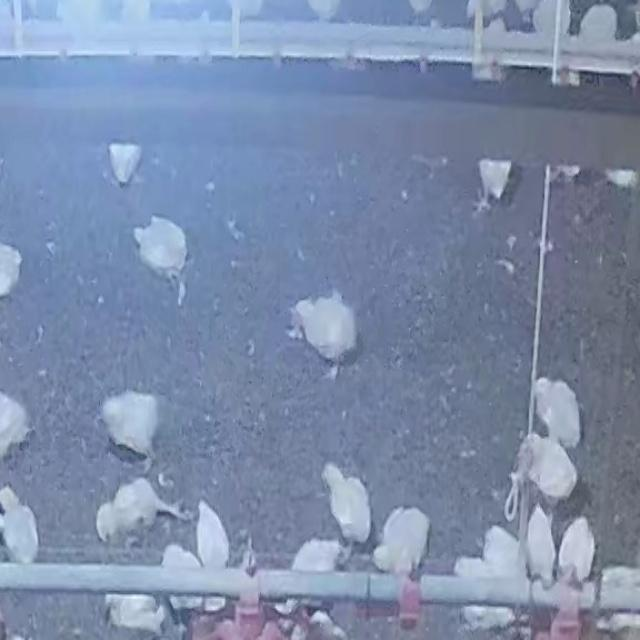chicken: (292, 294, 361, 384), (131, 208, 192, 308), (95, 478, 189, 542), (101, 387, 167, 478), (514, 432, 584, 516), (320, 462, 372, 546), (371, 508, 433, 572), (533, 378, 581, 450), (521, 498, 557, 584), (108, 142, 142, 186)
